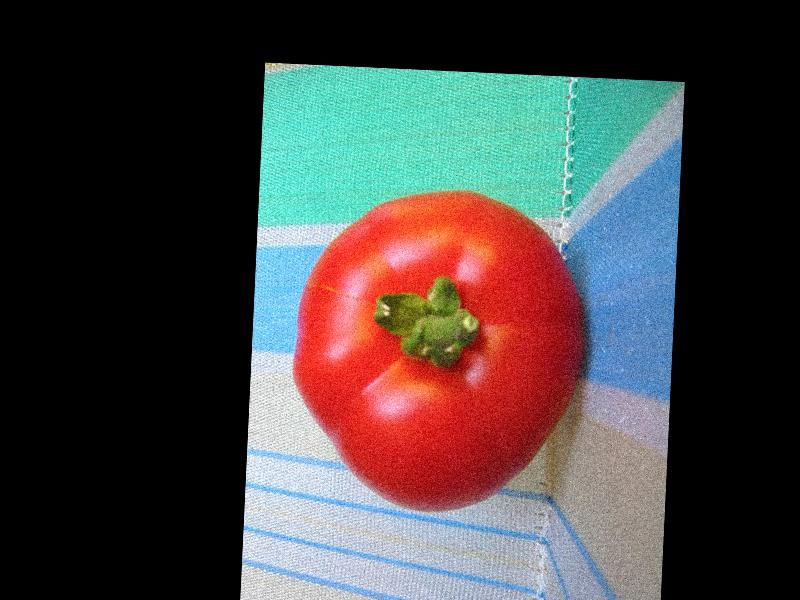Tomato: (286, 183, 592, 516)
